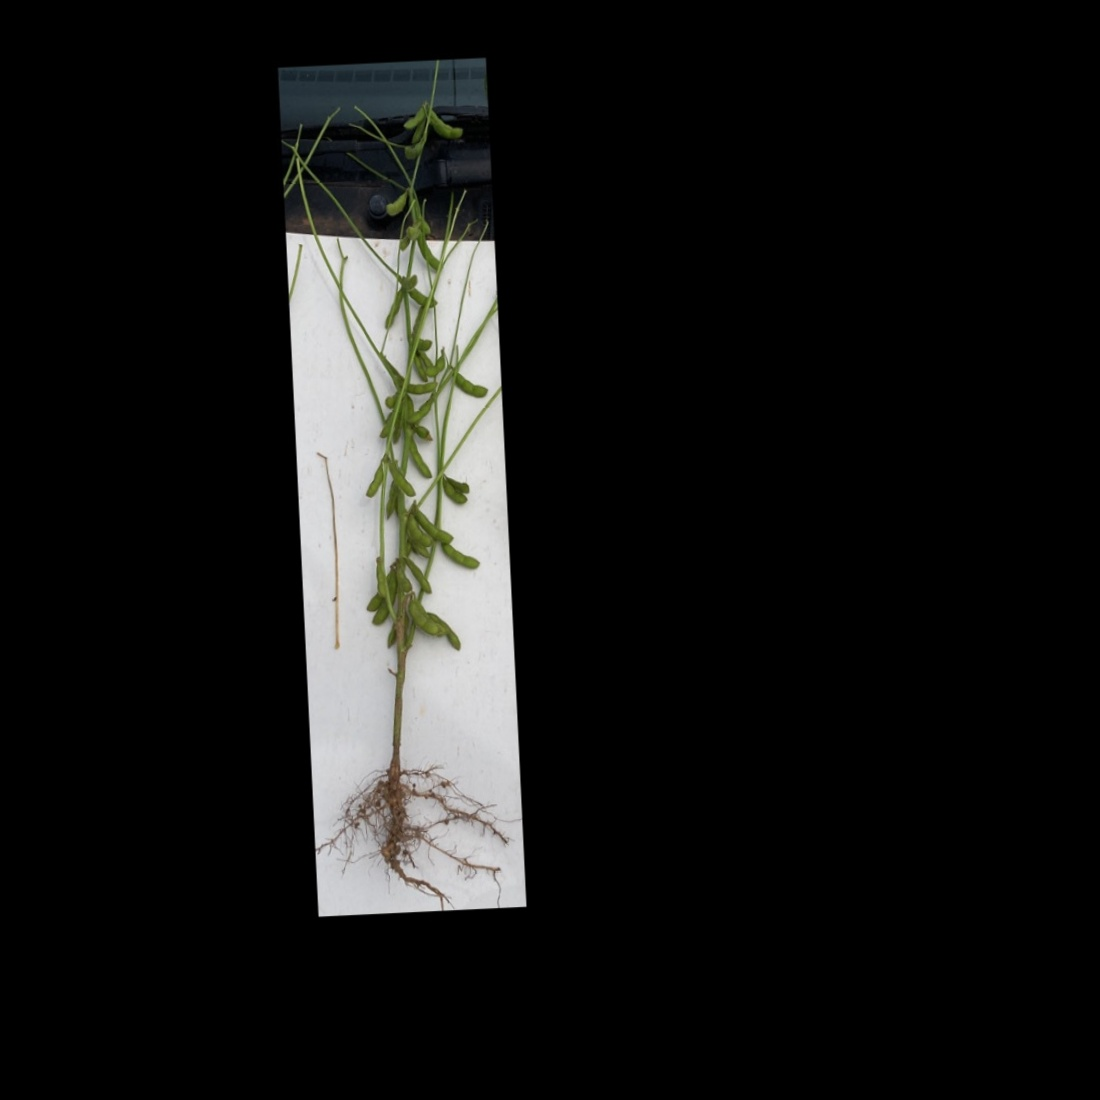pod: (410, 504, 456, 547), (404, 598, 443, 639), (382, 456, 417, 501), (437, 539, 482, 572), (408, 434, 433, 484), (404, 392, 438, 427), (453, 368, 490, 400), (362, 456, 384, 501), (442, 477, 469, 507)
soy: (292, 75, 516, 872)
